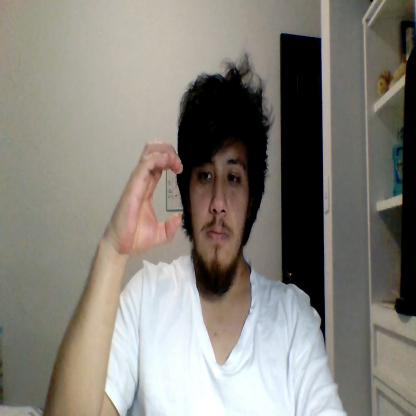C: (110, 142, 184, 250)
